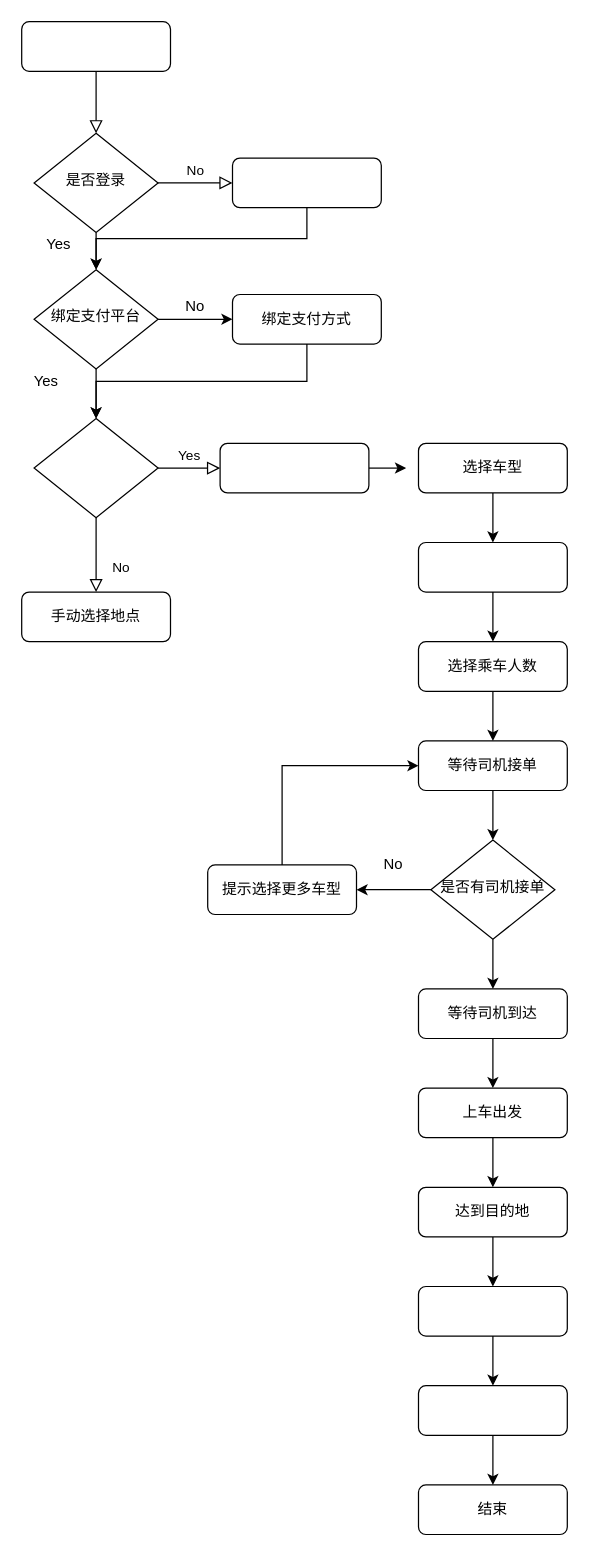
The diagram is 589 pixels wide and 1556 high, and some of its shapes have lost their labels. The centre of each missing label's shape, as x and y in pixels:
打开app: point (95, 45)
是否打开定位: point (95, 467)
注册登录: point (306, 182)
系统自动扣费: point (492, 1310)
评价司机: point (492, 1409)
输入目的地: point (294, 467)
选择出发时间: point (492, 566)
